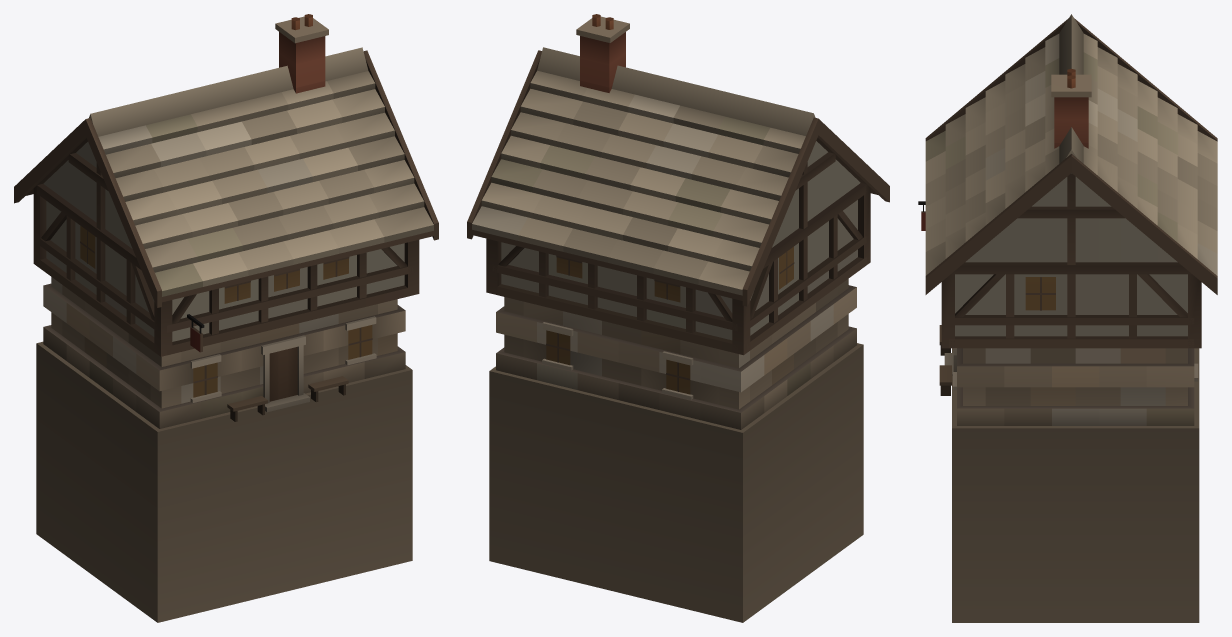
File: tavern.glb
3 renders of one model, left to right at view 1: azimuth 30°, elevation 25°; view 2: azimuth 150°, elevation 25°; view 3: azimuth 270°, elevation 25°, orthographic. The views are drawn at different scales.
Visible parts, largest first — view 1: Footing, Roof, Upper, Walls, Windows, Gables, Chimney, Door, Benches; view 2: Footing, Roof, Walls, Upper, Windows, Gables, Chimney; view 3: Footing, Roof, Upper, Walls, Gables, Chimney, Windows, Benches.
Part boxes in pixels (left/top/right/bottom): Footing: left=36, top=341, right=412, bottom=622; Roof: left=14, top=47, right=438, bottom=307; Upper: left=33, top=184, right=419, bottom=356; Walls: left=43, top=277, right=405, bottom=428; Windows: left=80, top=226, right=376, bottom=403; Gables: left=43, top=142, right=132, bottom=248; Chimney: left=275, top=14, right=328, bottom=93; Door: left=261, top=335, right=309, bottom=412; Benches: left=227, top=376, right=348, bottom=421; Footing: left=489, top=343, right=863, bottom=622; Roof: left=467, top=47, right=889, bottom=306; Walls: left=496, top=279, right=856, bottom=429; Upper: left=486, top=183, right=870, bottom=355; Windows: left=542, top=246, right=794, bottom=399; Gables: left=772, top=141, right=860, bottom=247; Chimney: left=576, top=14, right=629, bottom=92; Footing: left=952, top=348, right=1199, bottom=622; Roof: left=925, top=14, right=1217, bottom=294; Upper: left=941, top=262, right=1201, bottom=348; Walls: left=957, top=348, right=1194, bottom=425; Gables: left=965, top=173, right=1177, bottom=264; Chimney: left=1051, top=68, right=1091, bottom=148; Windows: left=953, top=277, right=1198, bottom=390; Benches: left=939, top=325, right=951, bottom=395.
Size of the model in its own units: 16.36 by 28.47 by 14.75.
